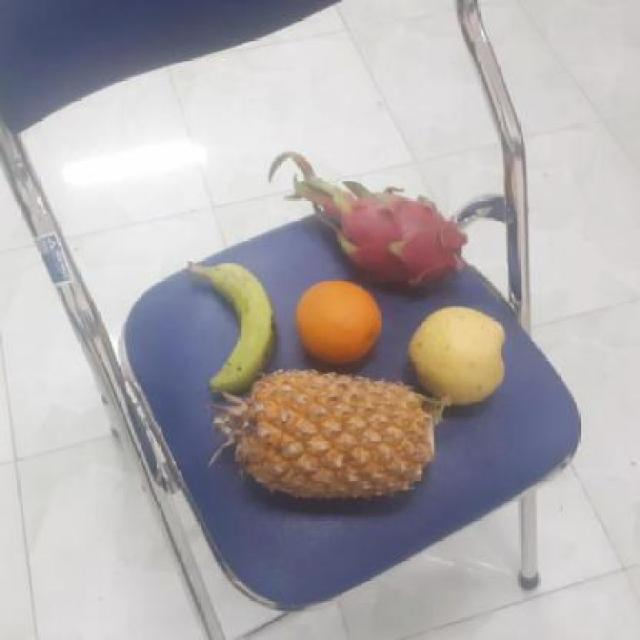dragon fruit: (320, 194, 462, 295)
pear: (404, 303, 510, 405), (291, 280, 384, 369)
pineapple: (219, 372, 436, 502)
